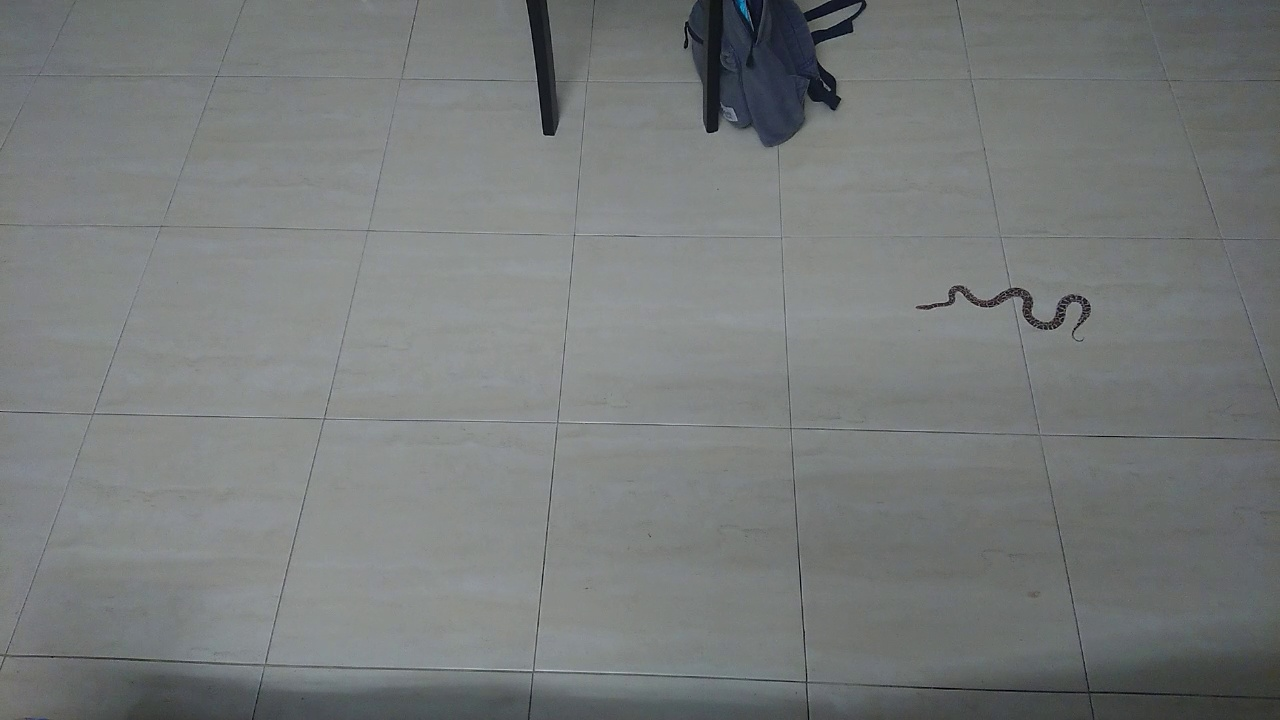snake: (905, 271, 1111, 350)
